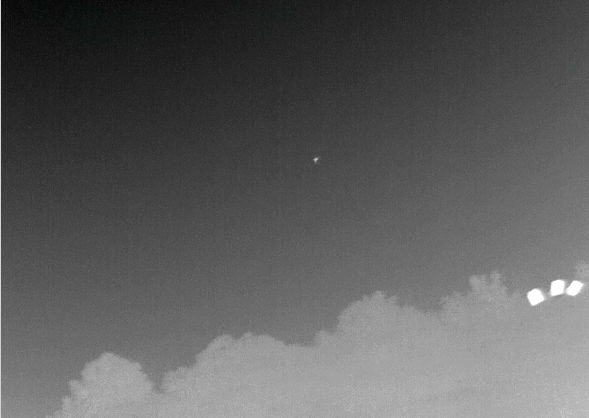dim target: (312, 156, 319, 164)
